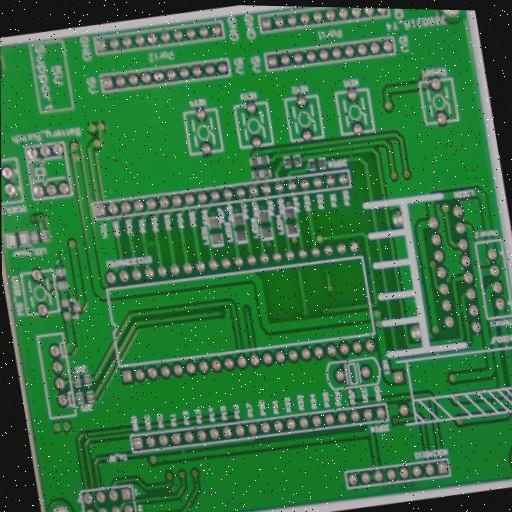short_circuit: (141, 235, 162, 253), (176, 442, 191, 461), (342, 148, 358, 165), (452, 300, 468, 317), (270, 144, 284, 161)
